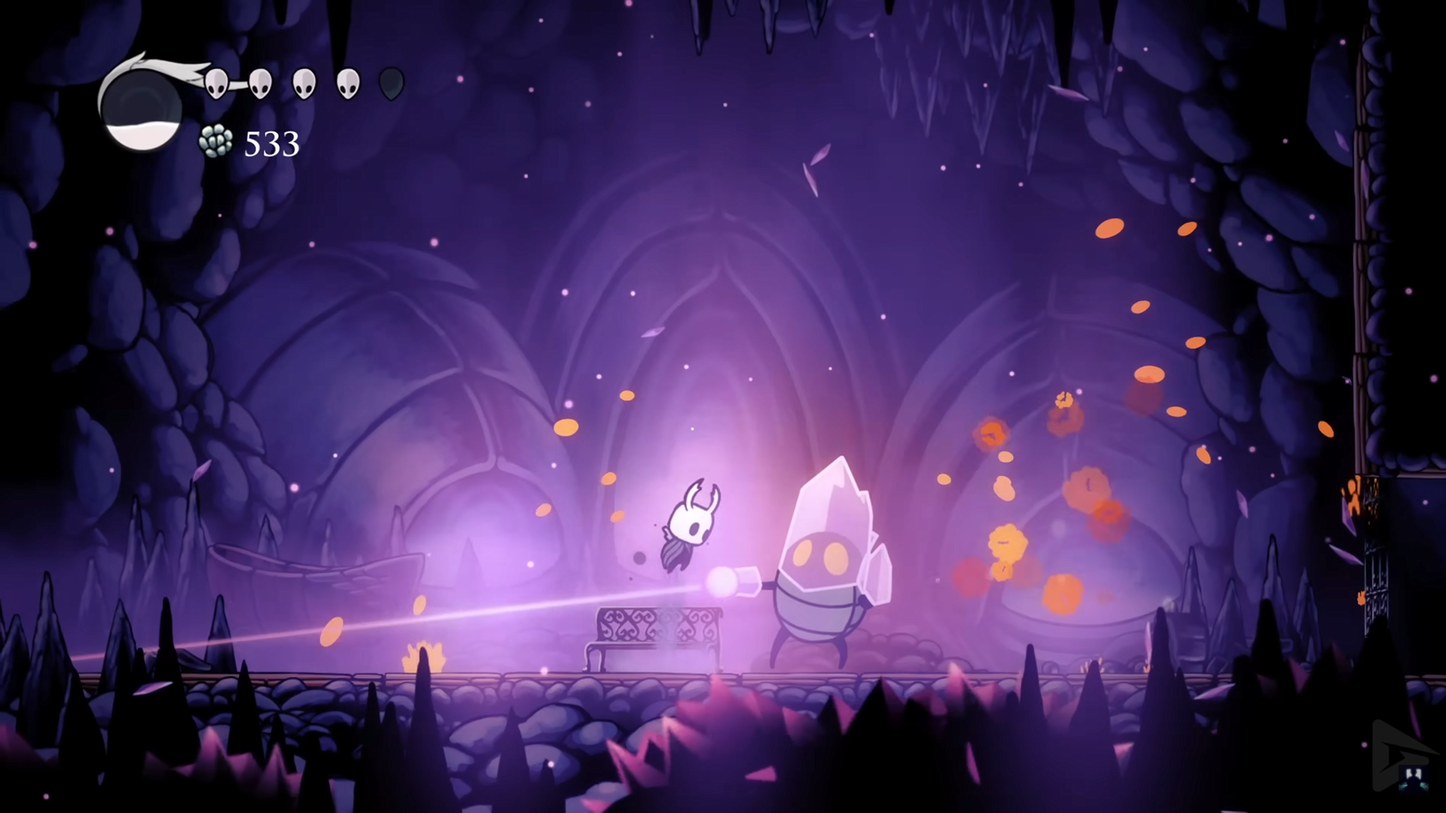HK: (654, 477, 728, 580)
